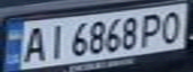6: (66, 19, 90, 57), (103, 16, 127, 53)
8: (118, 13, 142, 51), (87, 18, 109, 55)
A: (18, 24, 51, 63)
I: (42, 21, 69, 61)
O: (157, 8, 187, 44)
P: (136, 11, 169, 47)
